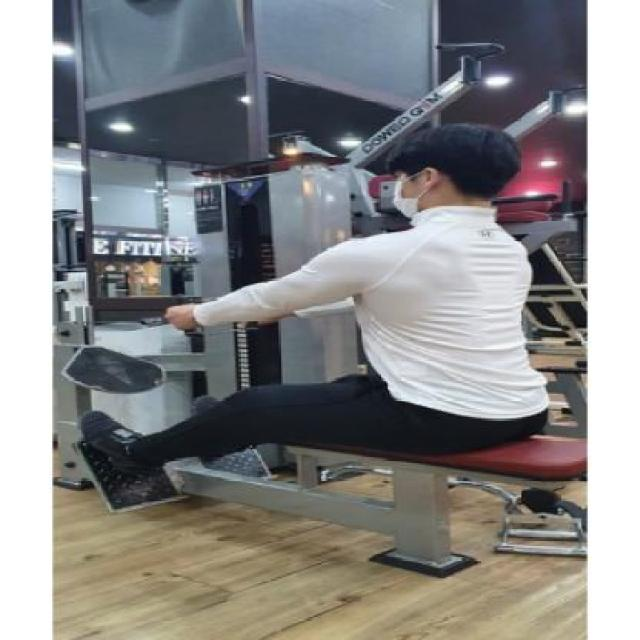Seated Cable Rows: (52, 106, 612, 592)
